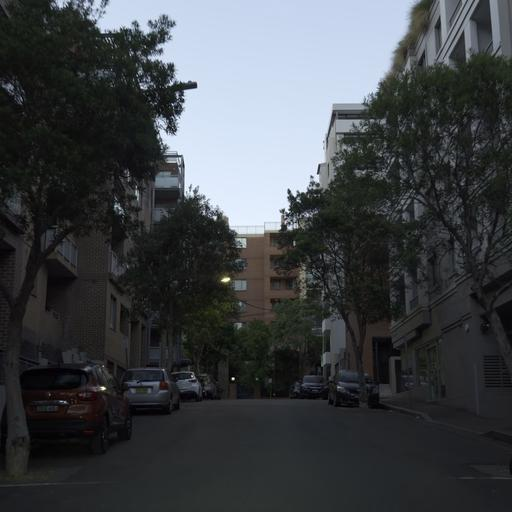Street light: (160, 272, 231, 368), (139, 79, 197, 96), (170, 79, 197, 91), (218, 273, 231, 284)
